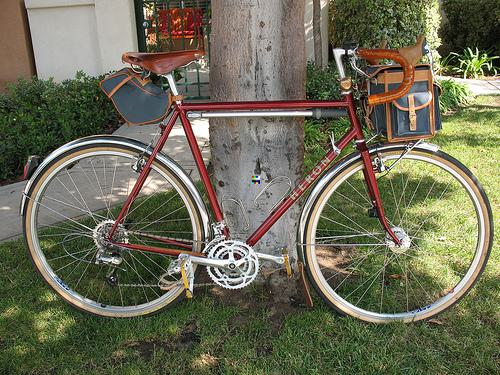car: (16, 35, 496, 325)
